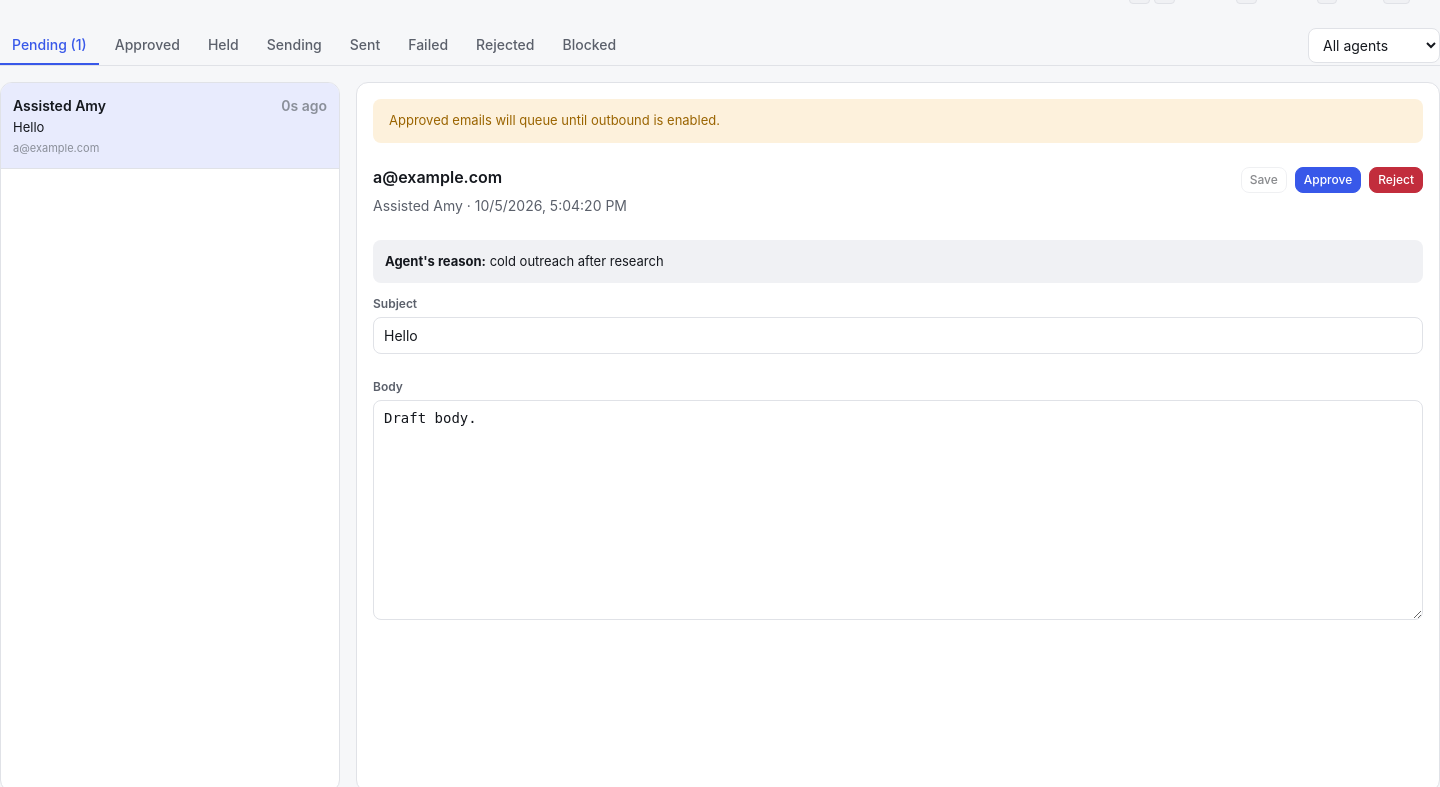
it: Inbox approval flow › rejecting needs a category; the written feedback is optional
Expected: the heading "a@example.com" is shown, x1=373 y1=166 x2=502 y2=186
Click the button "Reject" at [1396, 180], box x1=1369 y1=166 x2=1423 y2=192
(page scrolled)
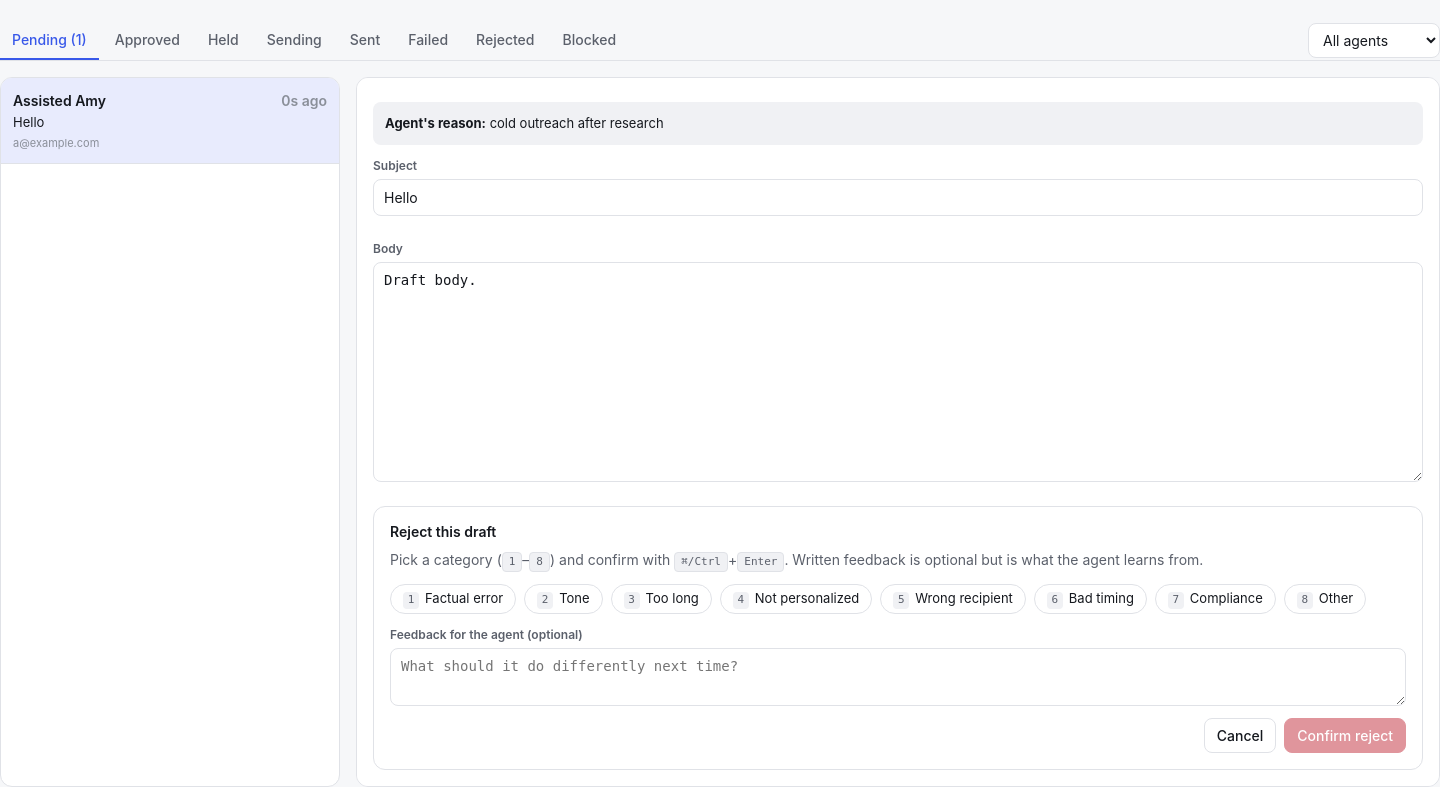
Expected: the button "Confirm reject" is disabled, x1=1284 y1=718 x2=1406 y2=752
Type "Too aggressive a pitch." into the text box labelled "Feedback for the agent (optional)" at [898, 676], box x1=390 y1=648 x2=1406 y2=706
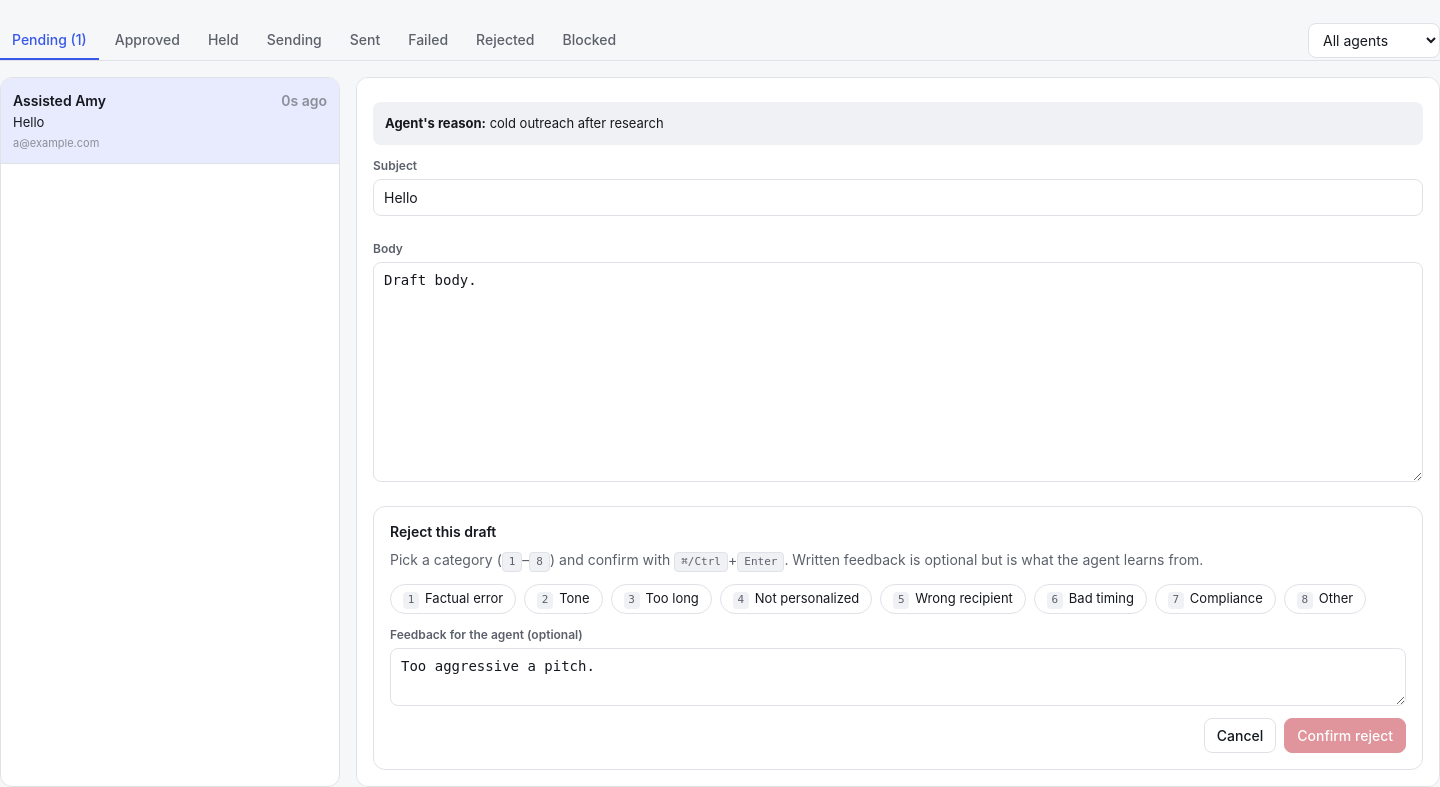
Expected: the button "Confirm reject" is disabled, x1=1284 y1=718 x2=1406 y2=752
Click the button "Tone" at [563, 599], box x1=524 y1=584 x2=603 y2=614
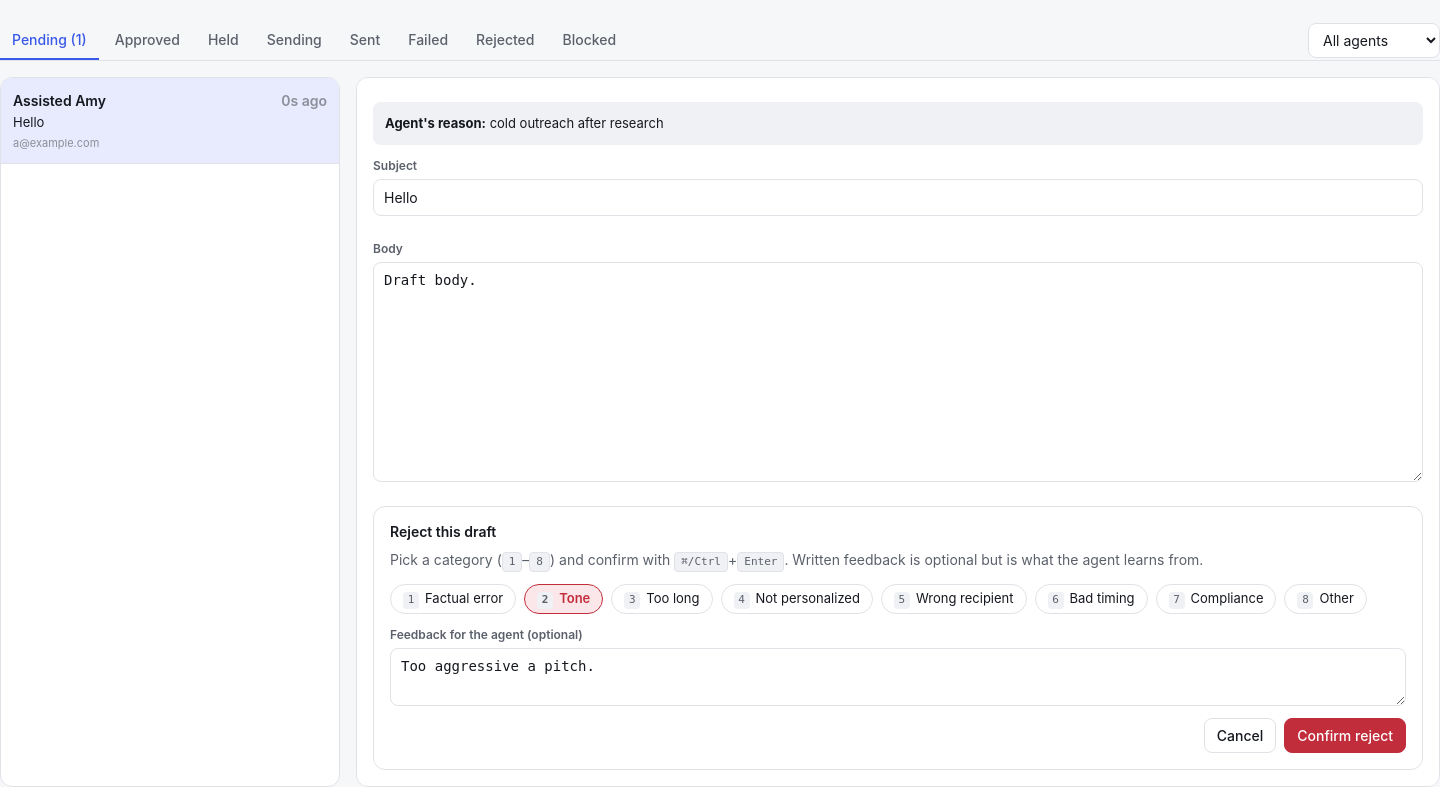
Expected: the button "Confirm reject" is enabled
Click the button "Confirm reject" at [1345, 735], box x1=1284 y1=718 x2=1406 y2=752
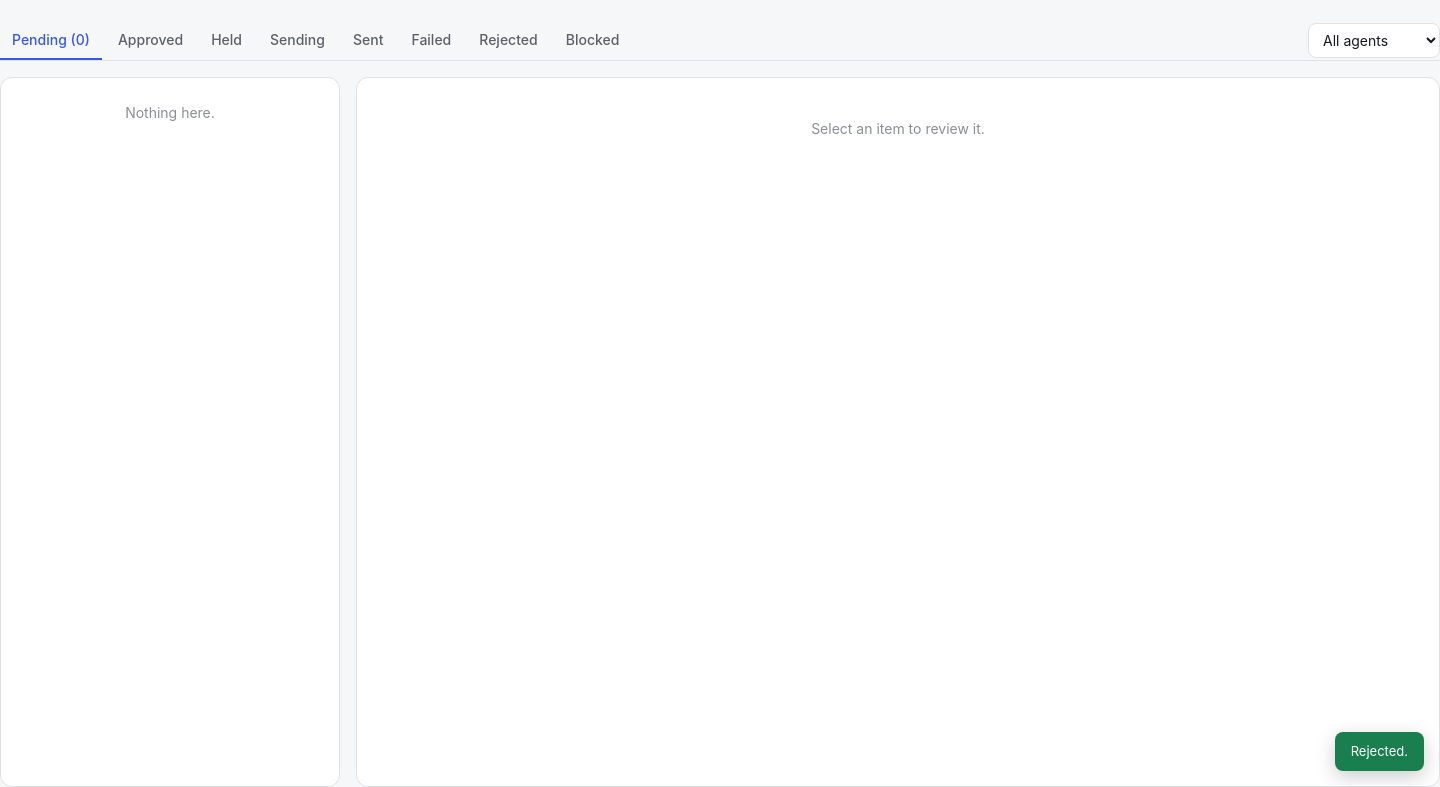
Expected: the button "a@example.com" is gone
